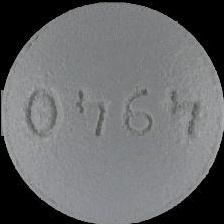61786-437: (0, 0, 224, 224)
